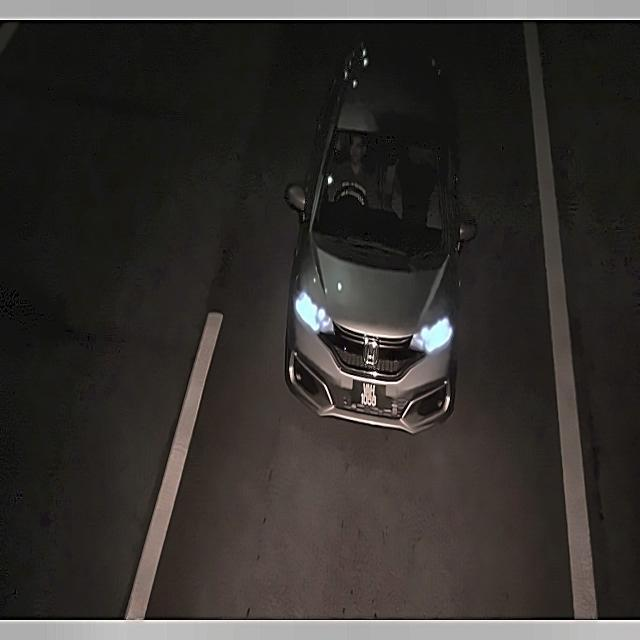car: (350, 373, 390, 413)
